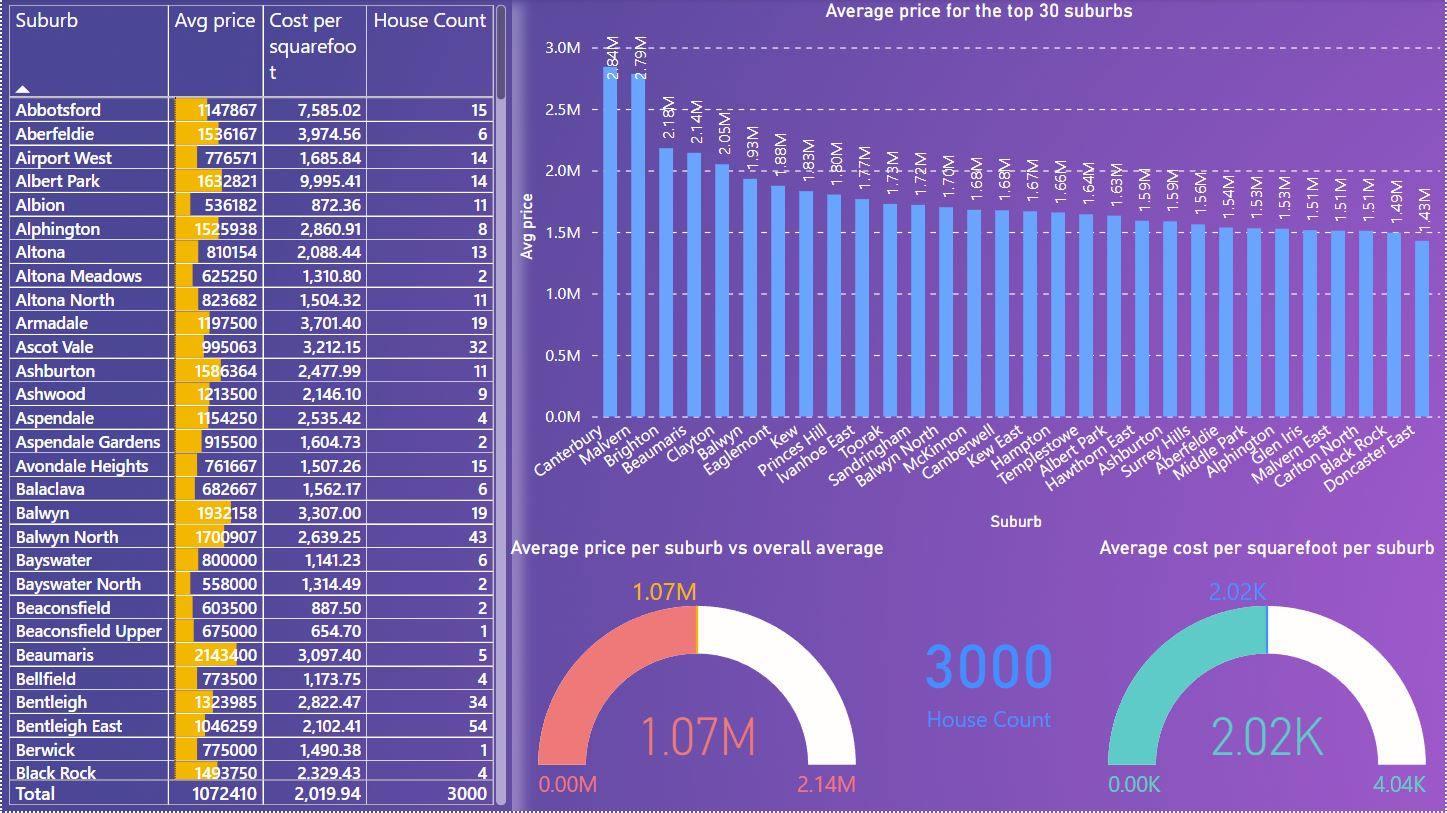

What the dashboard file says about the page in this screenshot:
{"tool":"powerbi","page":{"name":"Detailed view  per suburb","canvas":[1280,720],"ordinal":1},"visuals":[{"type":"tableEx","fields":{"Values":["Melb.Suburb","Melb.Avg price","Melb.cost per sqrfoot","Melb.House Count"]},"box":[0,0,452.2,720],"z":1000},{"type":"clusteredColumnChart","title":"Average price for the top 30 suburbs","fields":{"Category":["Melb.Suburb"],"Y":["Melb.Avg price"]},"box":[452.2,0,828.2,476.2],"z":2000},{"type":"gauge","title":"Average price per suburb vs overall average","fields":{"Y":["Melb.Avg price"],"TargetValue":["Melb.Avg price overall"]},"box":[445.1,476.2,342.3,243.8],"z":2001},{"type":"gauge","title":"Average cost per squarefoot per suburb","fields":{"Y":["Melb.cost per sqrfoot"],"TargetValue":["Melb.Avg cost per sqrfoot overall"]},"box":[963,476.2,317.4,243.8],"z":2002},{"type":"card","fields":{"Values":["Melb.House Count"]},"box":[787.4,476.2,175.6,243.8],"z":2003}]}

Visuals, with their boxes in screenshot pixels (x1, y1, x2, y2), scaled from the page's 1280x720 canvas onto the 1447x813 screenshot:
tableEx - Melb.Suburb x Melb.Avg price: 0,0,511,812
"Average price for the top 30 suburbs" clusteredColumnChart: 511,0,1446,538
"Average price per suburb vs overall average" gauge: 503,538,890,812
"Average cost per squarefoot per suburb" gauge: 1089,538,1446,812
card - Melb.House Count: 890,538,1089,812
